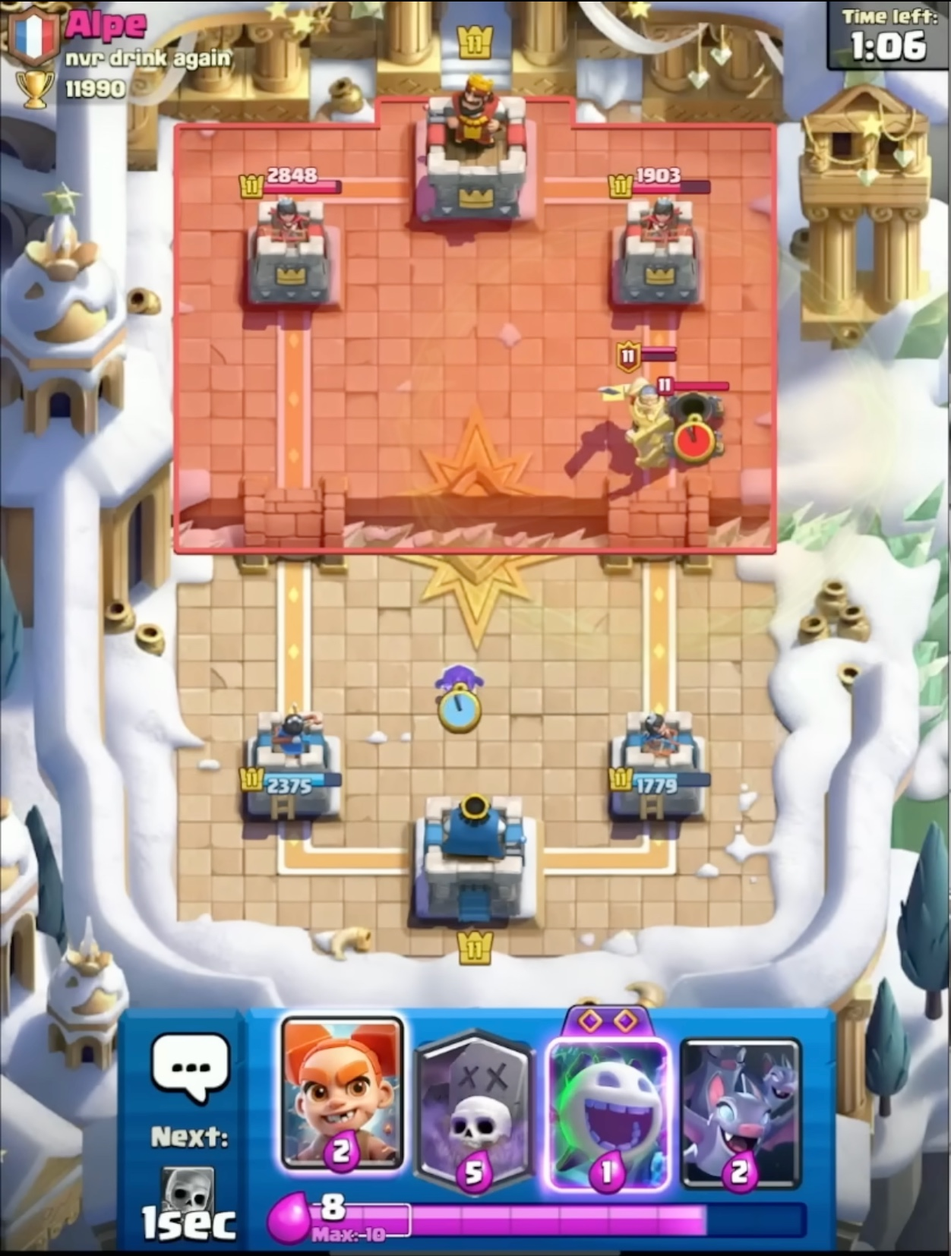hero-knight: (594, 333, 683, 474)
mortar: (650, 371, 739, 471)
